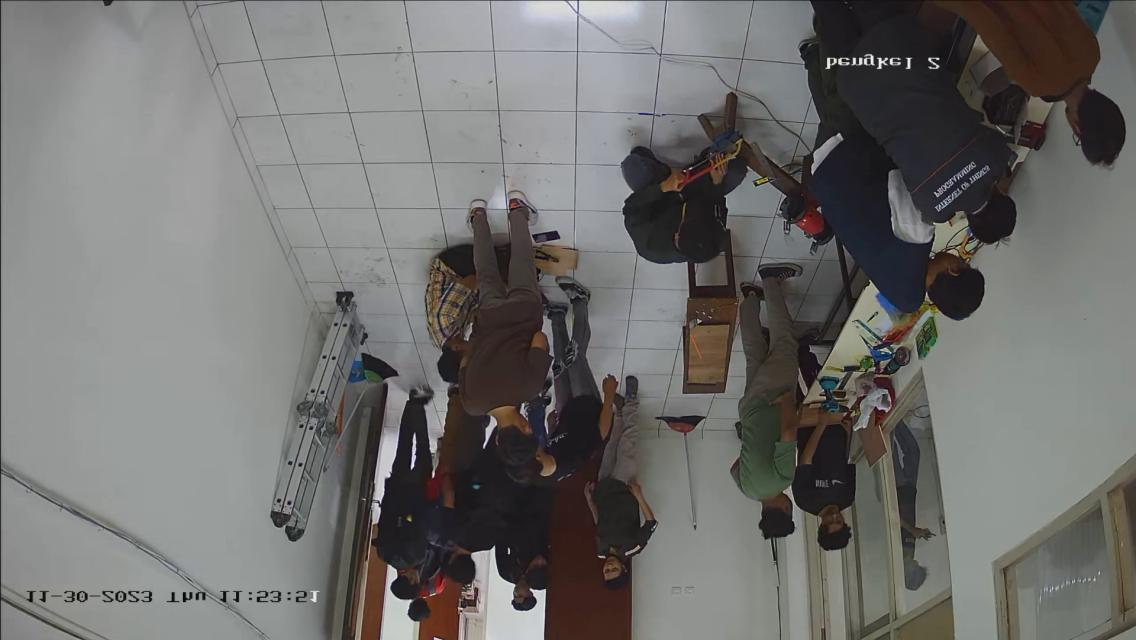Crowd: (363, 181, 664, 629)
